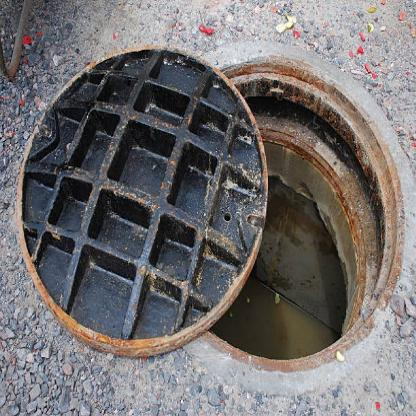open manhole-not overflowing-: (16, 44, 406, 372)
